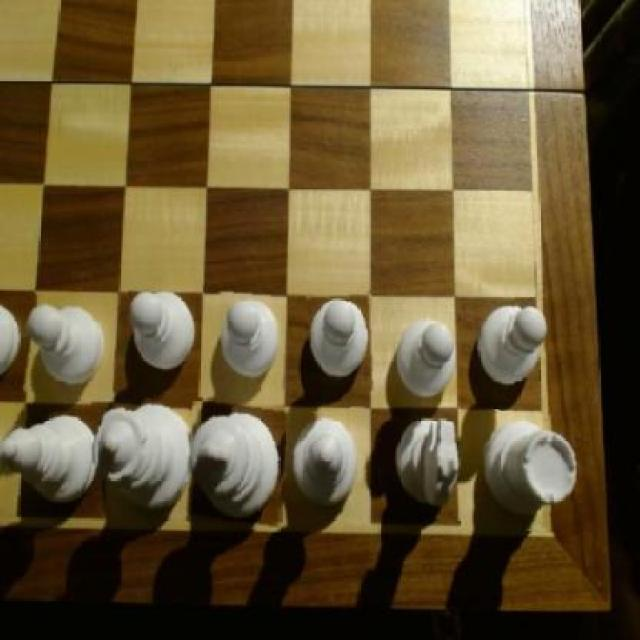black-rook: (0, 406, 97, 509), (291, 408, 370, 517)
white-bishop: (188, 400, 286, 530)
white-king: (394, 409, 471, 520)
white-knight: (24, 296, 111, 400), (477, 299, 555, 403), (128, 284, 204, 384), (216, 292, 286, 391), (308, 292, 374, 395), (394, 317, 460, 412)
white-pawn: (90, 392, 192, 517)
white-queen: (481, 412, 584, 534)
